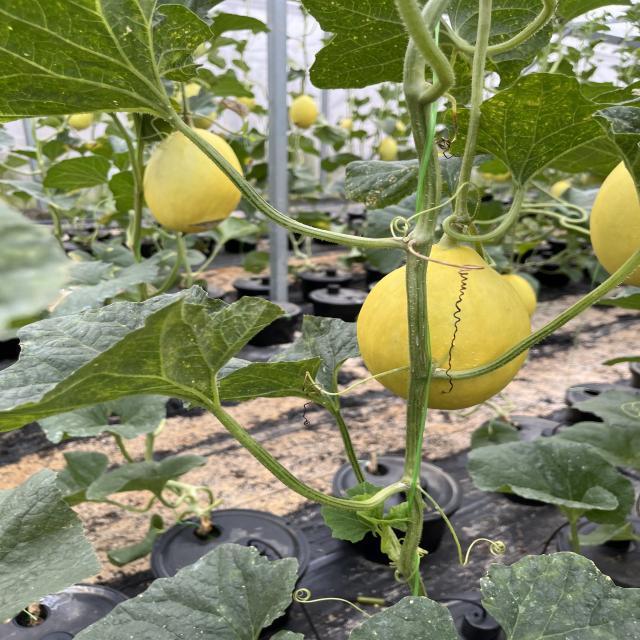downy mildew: (2, 284, 294, 446), (0, 0, 214, 115), (441, 71, 638, 184), (198, 308, 376, 408), (0, 469, 108, 628), (293, 0, 462, 98), (474, 552, 640, 640)
